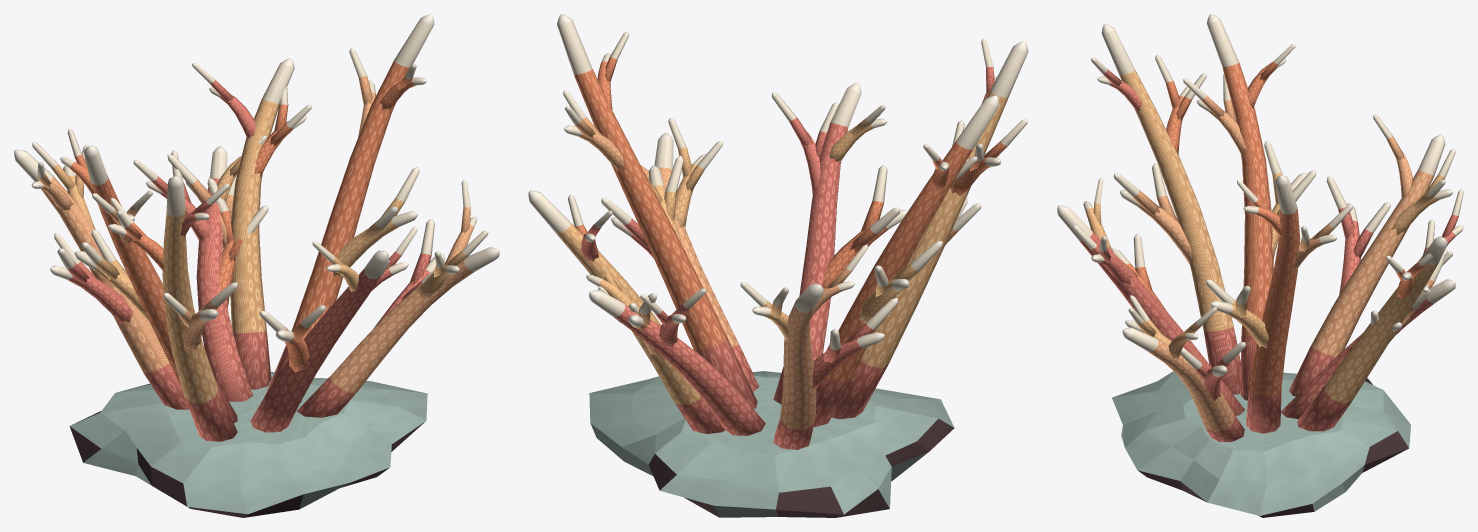
File: staghorn_coral.glb
The picture shows the model from 3 angles, left to right: view 1: azimuth 30°, elevation 25°; view 2: azimuth 150°, elevation 25°; view 3: azimuth 270°, elevation 25°; orthographic projection. The views are drawn at different scales.
Visible parts, largest first — view 1: staghorn_coral; view 2: staghorn_coral; view 3: staghorn_coral.
Part boxes in pixels (bbox=[...]): staghorn_coral: bbox=[14, 14, 499, 517]; staghorn_coral: bbox=[528, 14, 1028, 517]; staghorn_coral: bbox=[1057, 14, 1463, 517].
Bounding box in the file's own units: 2.46 × 2.32 × 2.38.
1 material, 1 textured.
